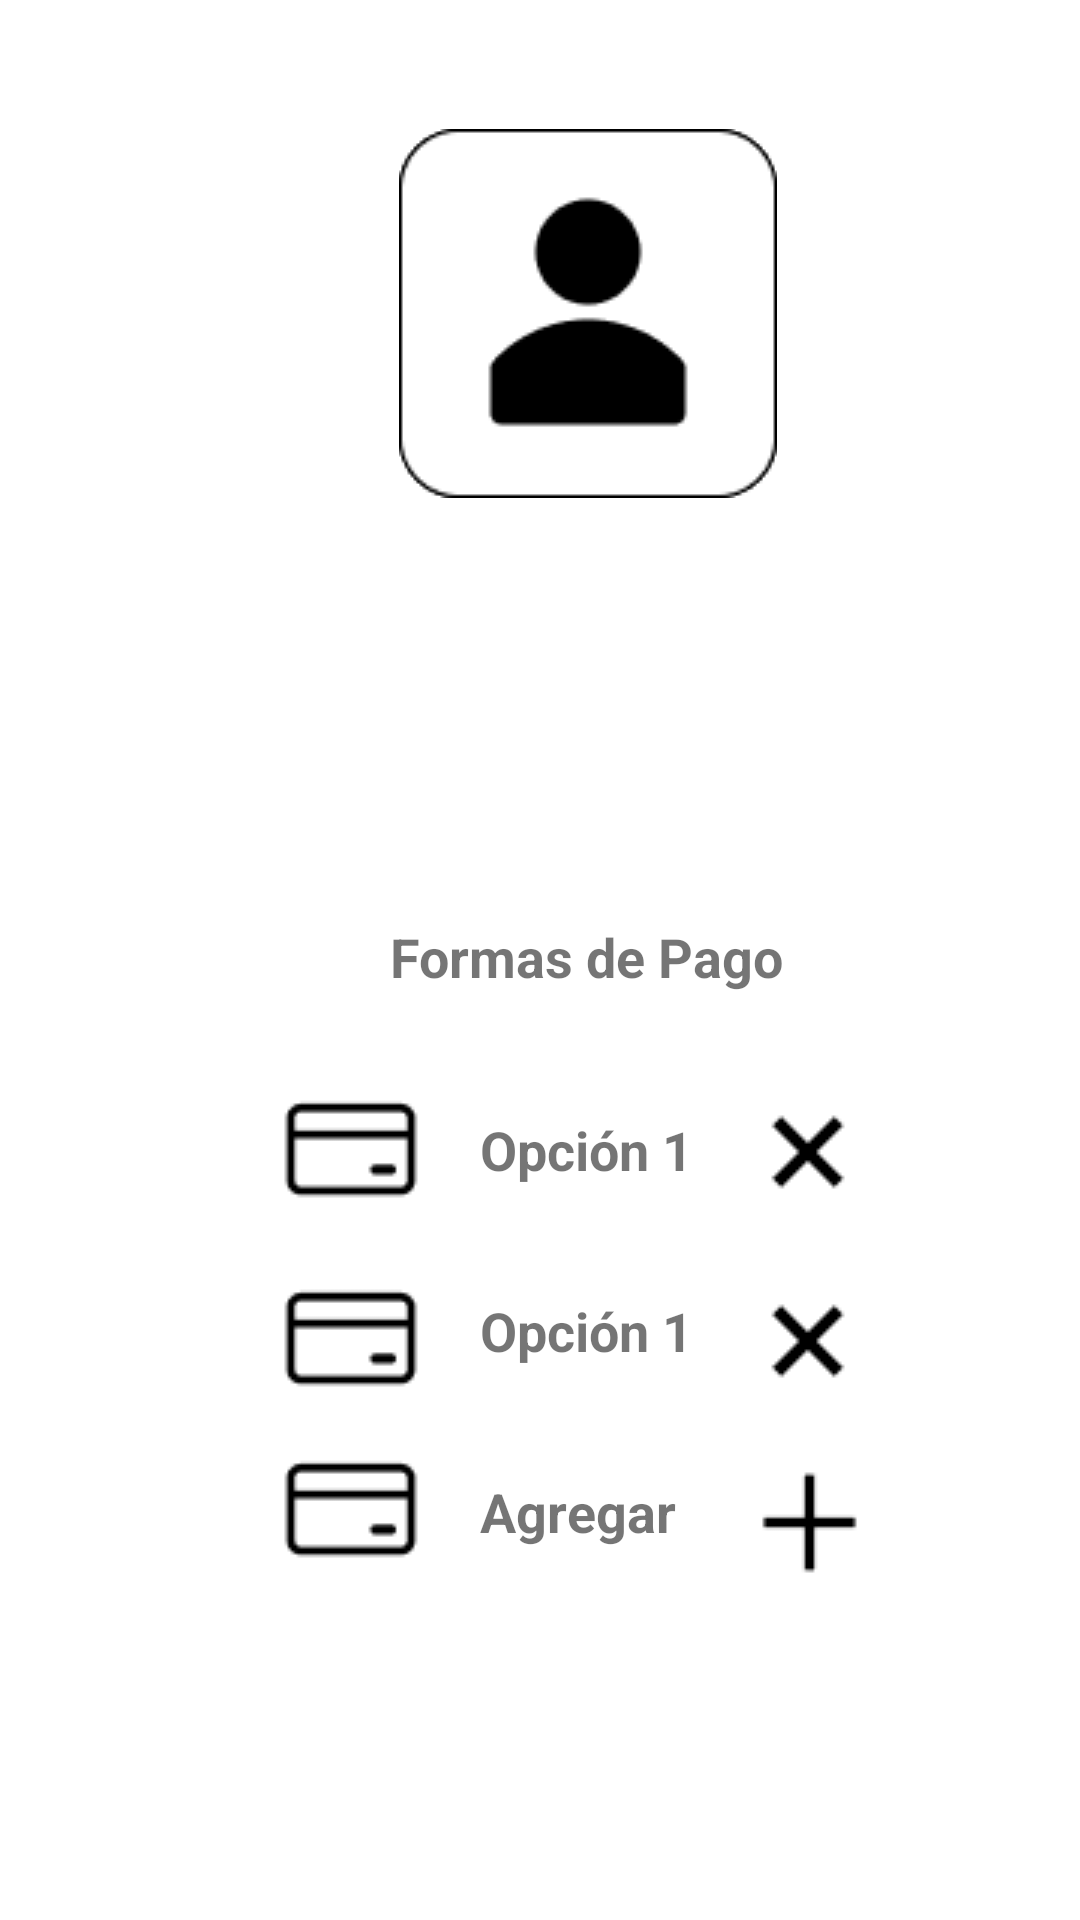

Icons on this 1080px x 1920px Android screen, each with the point to tap as point (x, y):
fluent payment: point (351, 1149), point (351, 1338), point (351, 1509)
plus: point (809, 1522)
